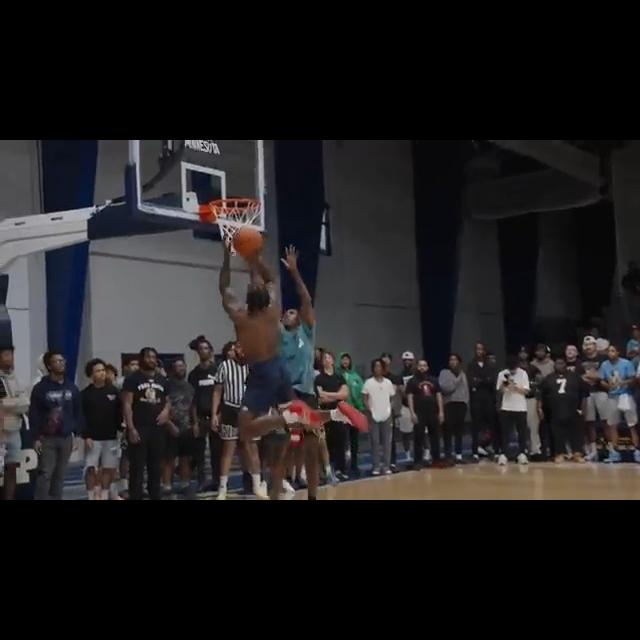basketball: (229, 221, 264, 260)
hoop: (210, 196, 262, 259)
